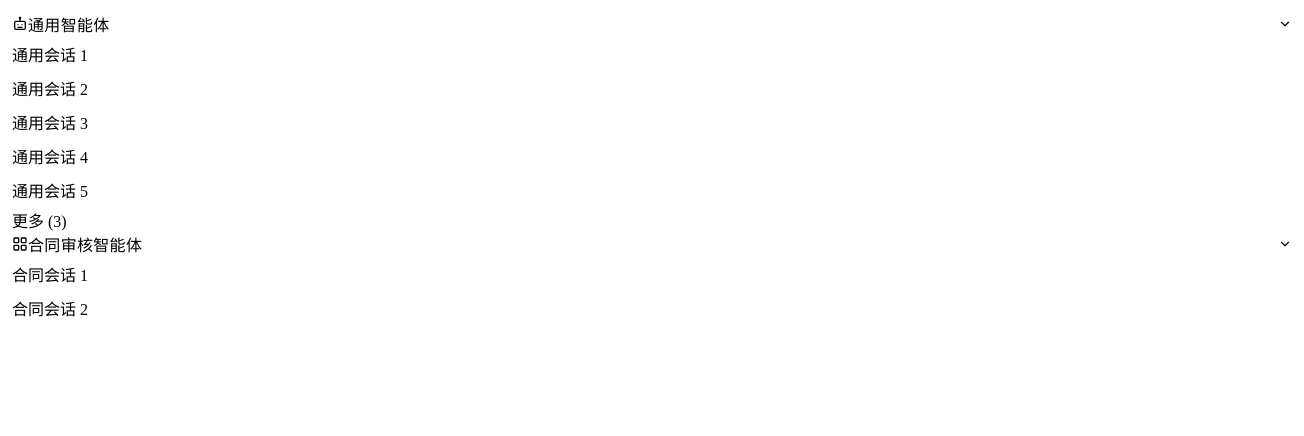
it: SessionList preview › shows only the preview limit per agent and reveals the rest via 更多
The width and height of the screenshot is (1304, 436).
expect the text "通用会话 1" is shown: met, box [12,47,88,64]
expect the text "合同会话 1" is shown: met, box [12,267,88,284]
Click the button with test id "session-more-general" at (39, 222), box [12,208,1292,232]
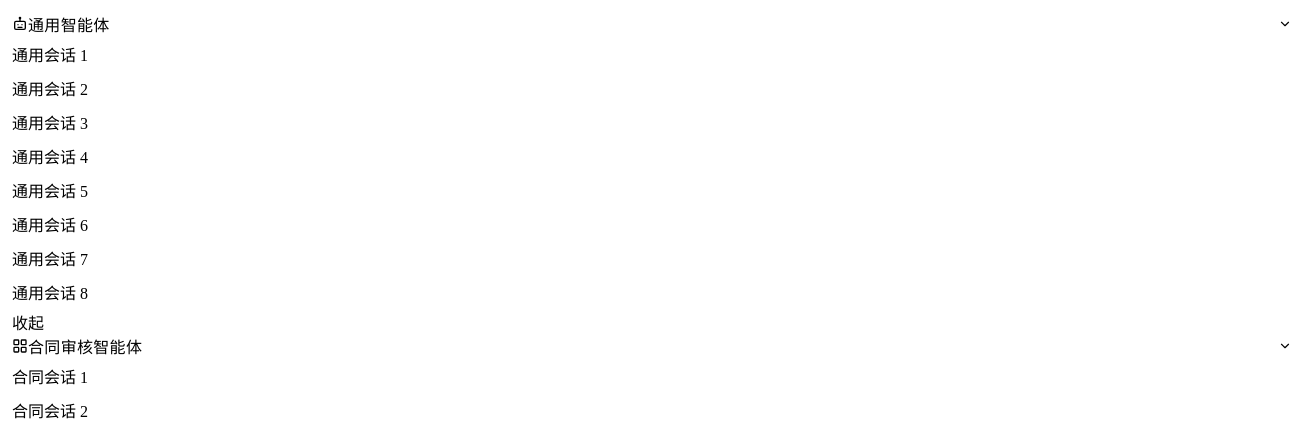
expect the button with test id "session-more-general" reads "收起": met
Click the button with test id "session-more-general" at (28, 324), box [12,310,1292,334]
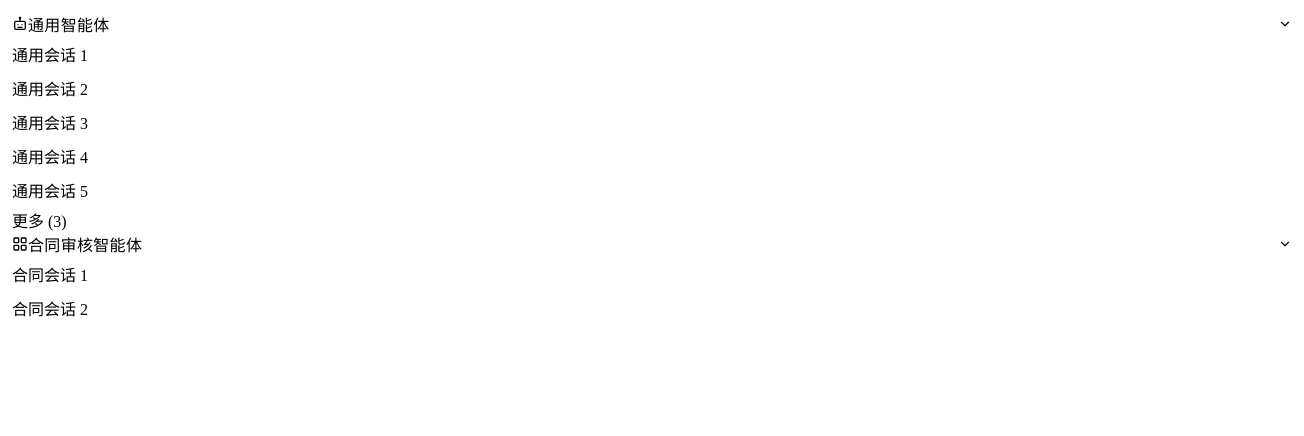
expect the button with test id "session-more-general" shows "更多": met, box [12,208,1292,232]
